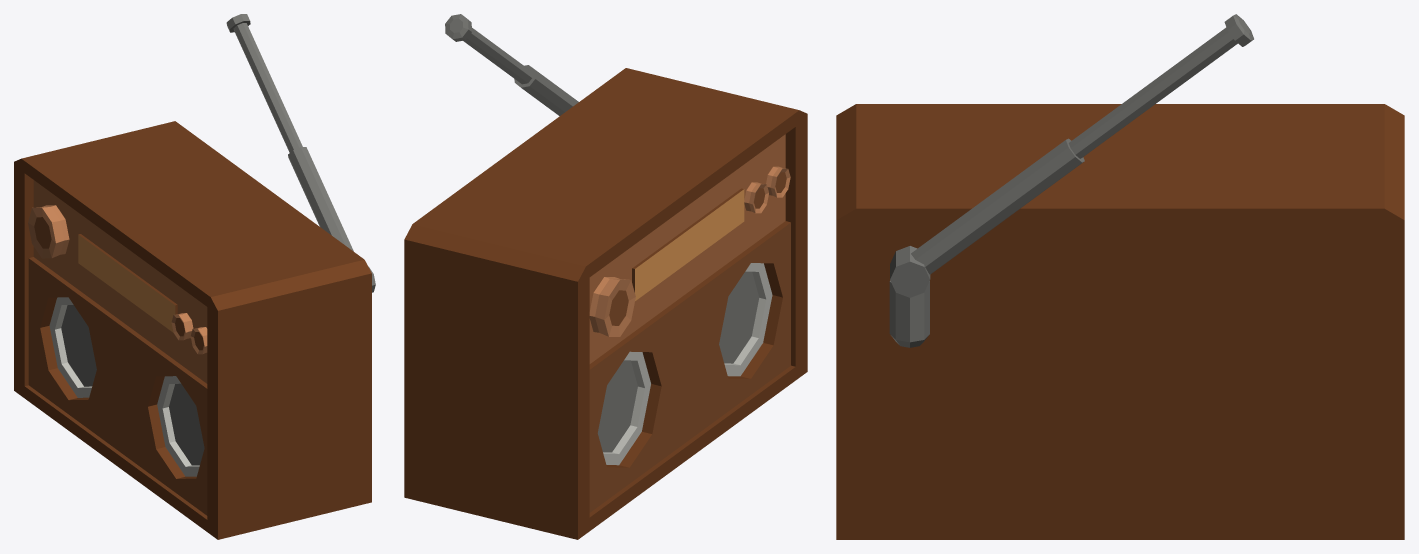
Rendered from Radio.fbx.
The picture shows the model from 3 angles, left to right: view 1: azimuth 30°, elevation 25°; view 2: azimuth 150°, elevation 25°; view 3: azimuth 270°, elevation 25°; orthographic projection. The views are drawn at different scales.
Parts seen in each view (by area): view 1: Cylinder.1259; view 2: Cylinder.1259; view 3: Cylinder.1259.
Part boxes in pixels (x1=…): Cylinder.1259: x1=14, y1=14, x2=375, y2=539; Cylinder.1259: x1=404, y1=14, x2=807, y2=539; Cylinder.1259: x1=836, y1=14, x2=1404, y2=539.
Bounding box in the file's own units: 33.42 × 66.91 × 64.8.
1 material, 1 textured.
